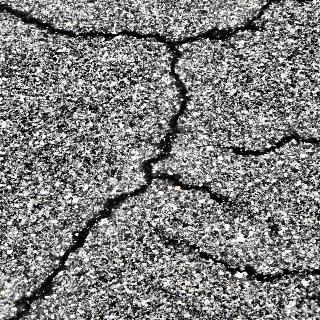crack: (3, 50, 221, 317), (0, 3, 293, 46), (232, 253, 319, 294), (234, 125, 317, 159)
